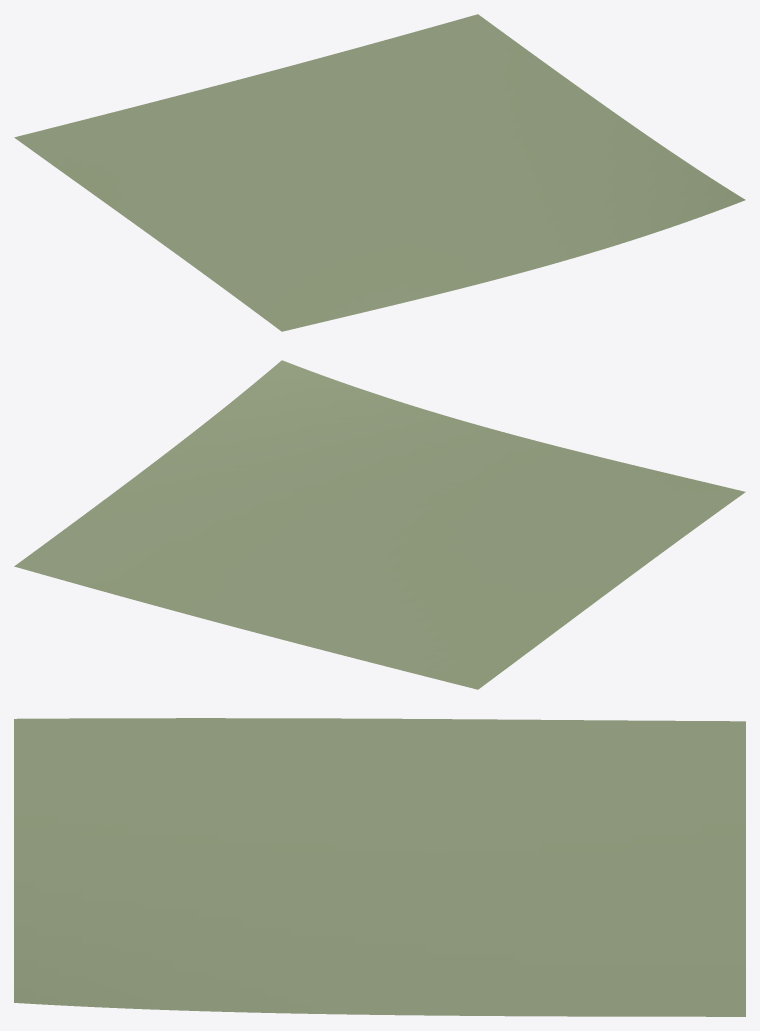
File: expanse-21-20.glb
3 views of the same model, one above another, from view 1: azimuth 30°, elevation 25°; view 2: azimuth 150°, elevation 25°; view 3: azimuth 270°, elevation 25° (orthographic). The views are drawn at different scales.
Parts seen in each view (by area): view 1: expanse-21-20; view 2: expanse-21-20; view 3: expanse-21-20.
Boxes of the visible parts, <box> form: expanse-21-20: <box>14,14,745,331</box>; expanse-21-20: <box>14,360,745,689</box>; expanse-21-20: <box>14,718,745,1016</box>.
Size of the model in its own units: 256 by 10.7 by 256.
